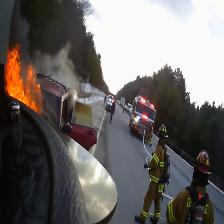fire: (1, 43, 55, 122)
nofire: (138, 96, 157, 131)
smoke: (15, 3, 91, 86)
